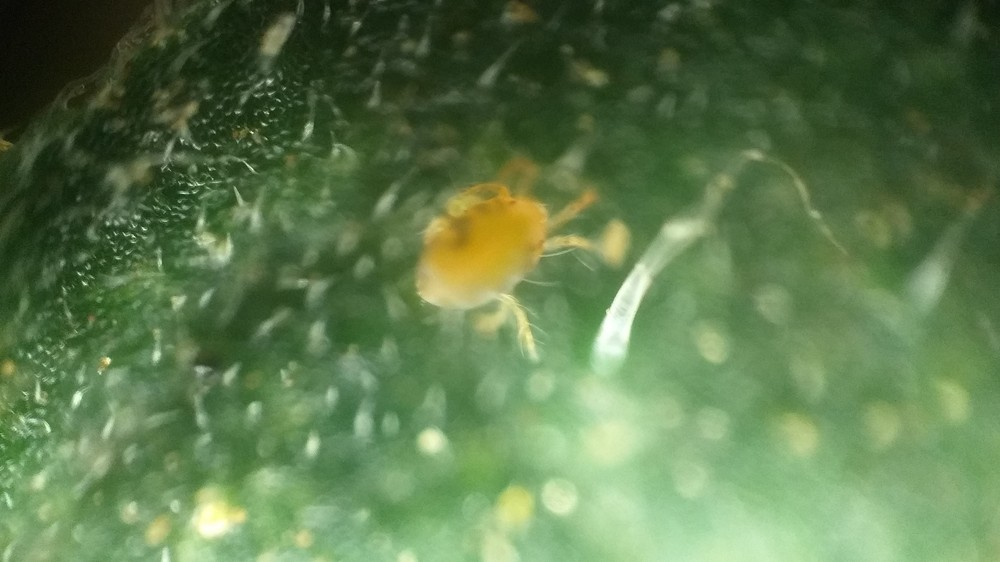Aracnido Rojo: (378, 146, 634, 380)
